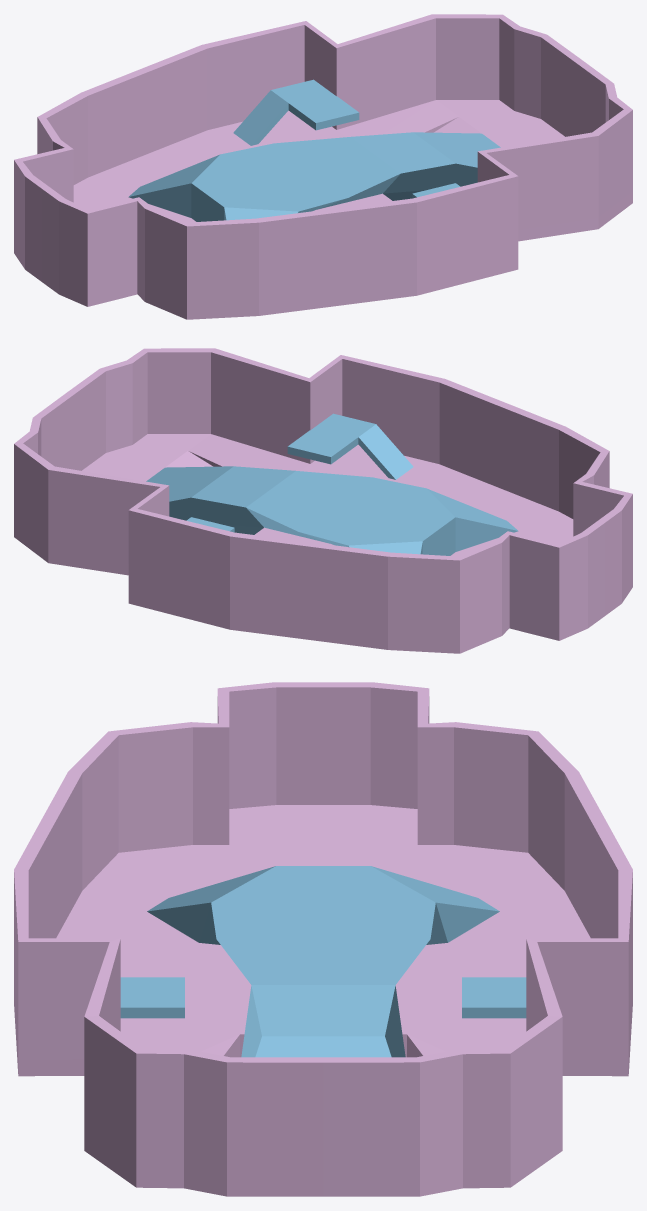
The model's file is Level1(4).fbx.
3 views of the same model, one above another, from view 1: azimuth 30°, elevation 25°; view 2: azimuth 150°, elevation 25°; view 3: azimuth 270°, elevation 25° (orthographic). The views are drawn at different scales.
Parts seen in each view (by area): view 1: Cube; view 2: Cube; view 3: Cube.
Boxes of the visible parts, x1,y1,x2,y2 form: Cube: [14, 14, 632, 319]; Cube: [14, 348, 632, 653]; Cube: [14, 682, 632, 1196].
Size of the model in its own units: 37186 by 6615 by 25729.
